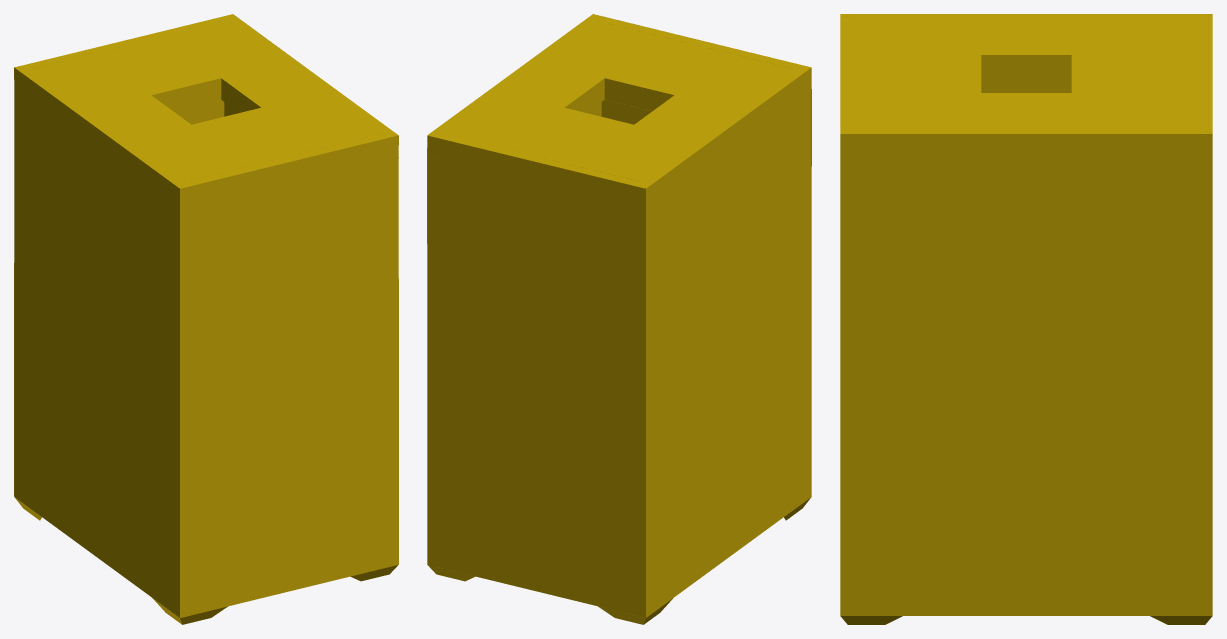
Rendered from original_5.obj.
3 views of the same model, side by side, from view 1: azimuth 30°, elevation 25°; view 2: azimuth 150°, elevation 25°; view 3: azimuth 270°, elevation 25° (orthographic). The views are drawn at different scales.
Visible parts, largest first — view 1: #ID47; view 2: #ID47; view 3: #ID47.
Boxes of the visible parts, bbox=[...] form: #ID47: bbox=[14, 14, 398, 624]; #ID47: bbox=[427, 14, 811, 624]; #ID47: bbox=[840, 14, 1212, 624].
Bounding box in the file's own units: 0.5471 × 1.05 × 0.718.
